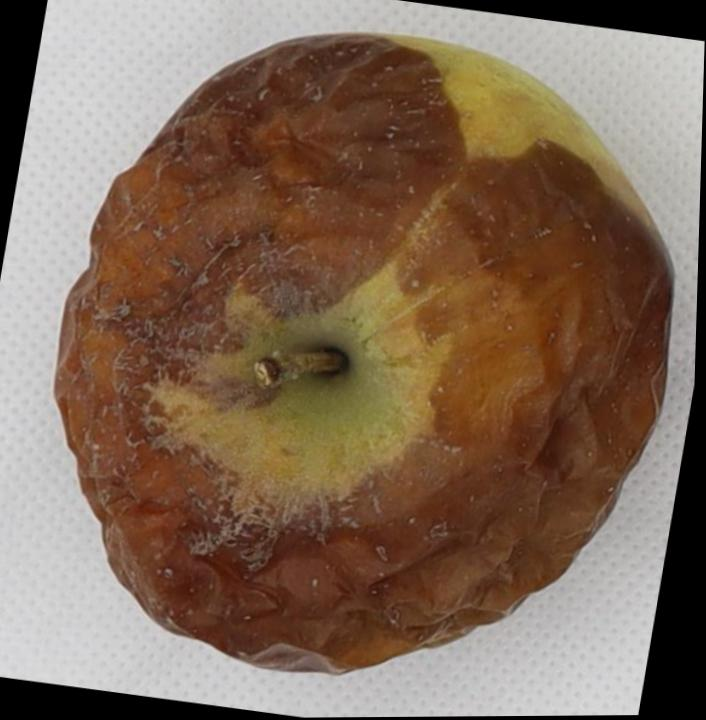apple: (55, 34, 673, 671)
rot_mold_decay: (56, 37, 671, 669)
